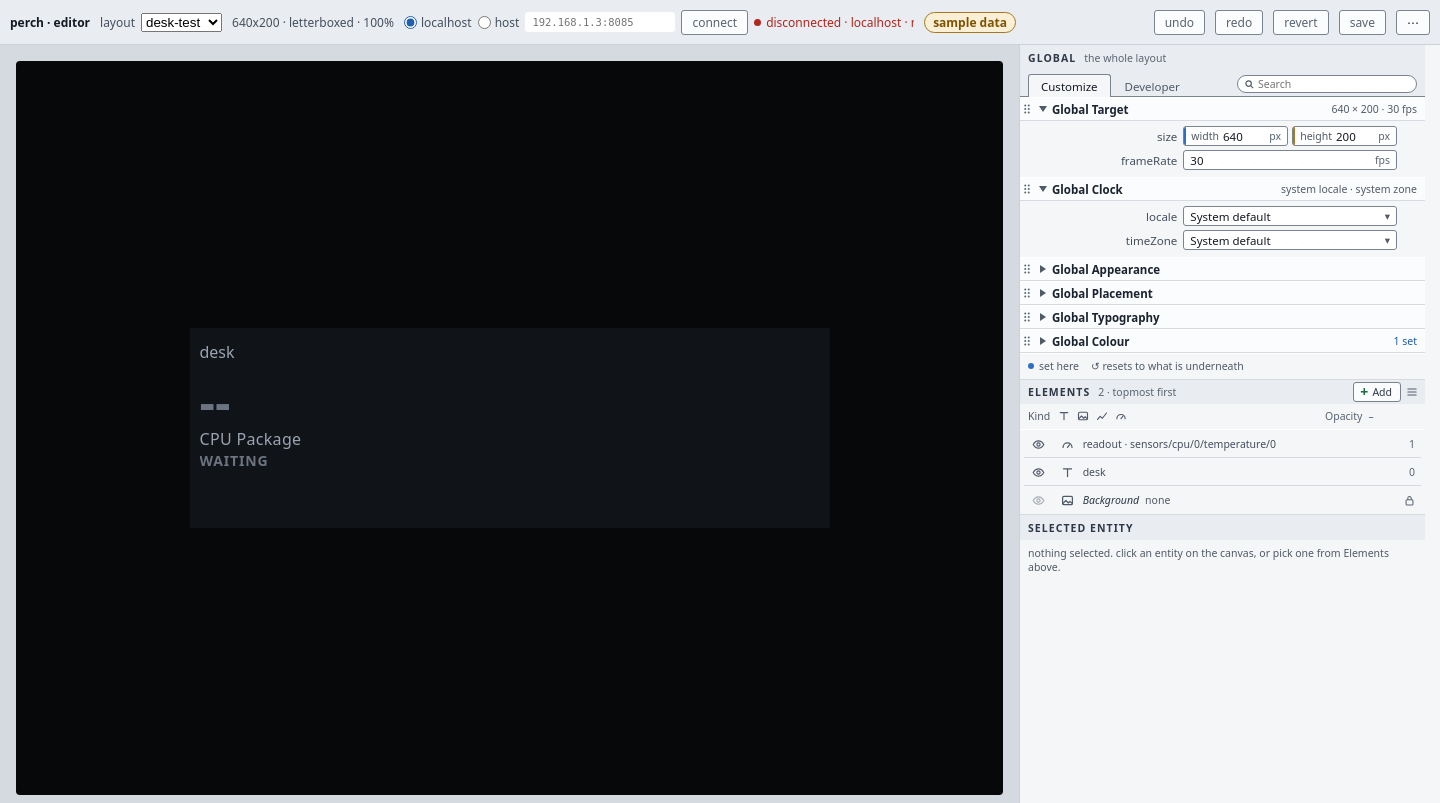
where one step ends › is a field blurred: every keystroke between focus and blur is one step
The image size is (1440, 803).
Click the button "desk 0". click: (1067, 472)
box: x1=1052 y1=458 x2=1421 y2=486
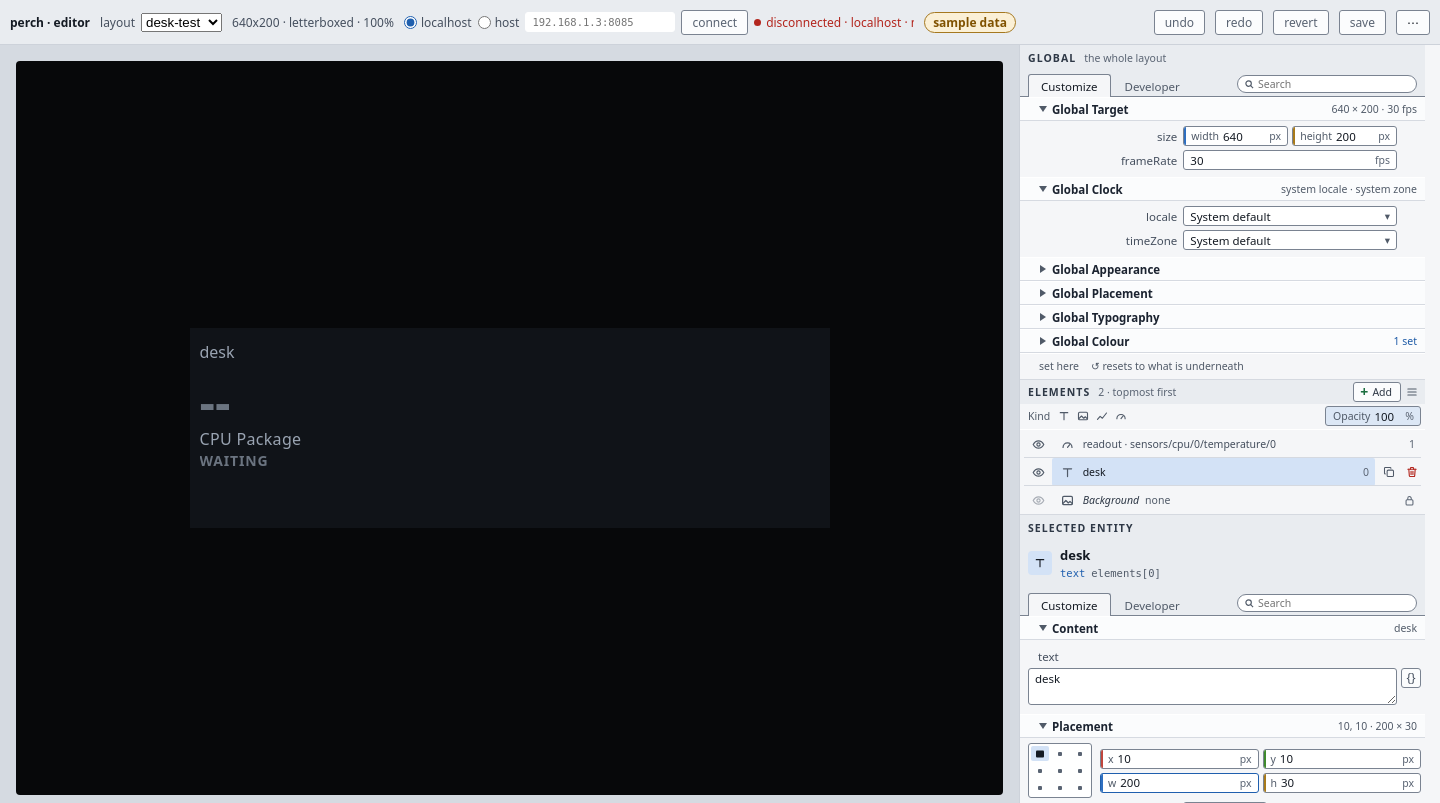
Replace the text in the number field labelled "w" with "1". click: (1179, 783)
box: x1=1118 y1=774 x2=1240 y2=792
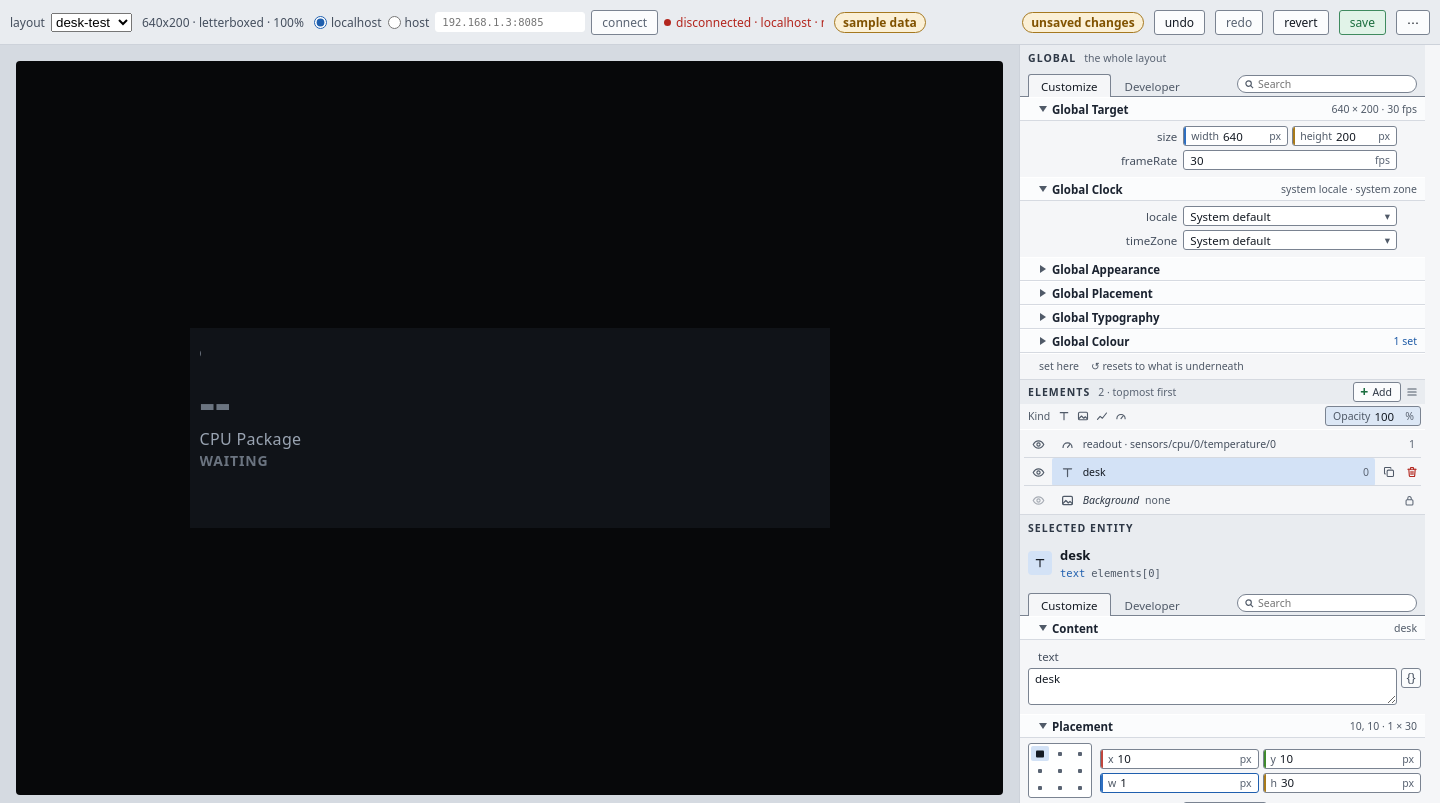
Replace the text in the number field labelled "w" with "15". click: (1179, 783)
box: x1=1118 y1=774 x2=1240 y2=792
Replace the text in the number field labelled "w" with "150". click: (1179, 783)
box: x1=1118 y1=774 x2=1240 y2=792
Replace the text in the number field labelled "w" with "15". click: (1179, 783)
box: x1=1118 y1=774 x2=1240 y2=792
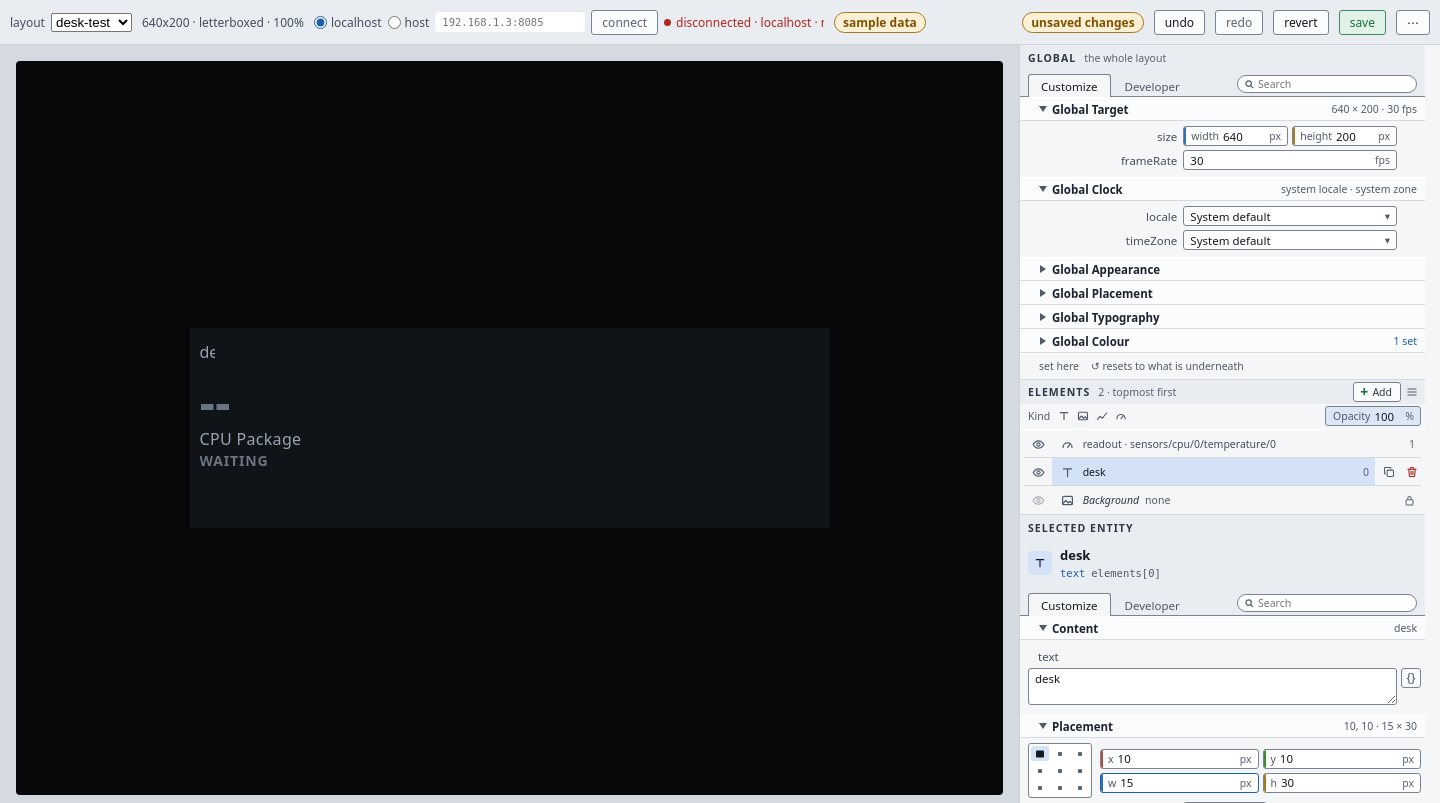
Replace the text in the number field labelled "w" with "1". click: (1179, 783)
box: x1=1118 y1=774 x2=1240 y2=792
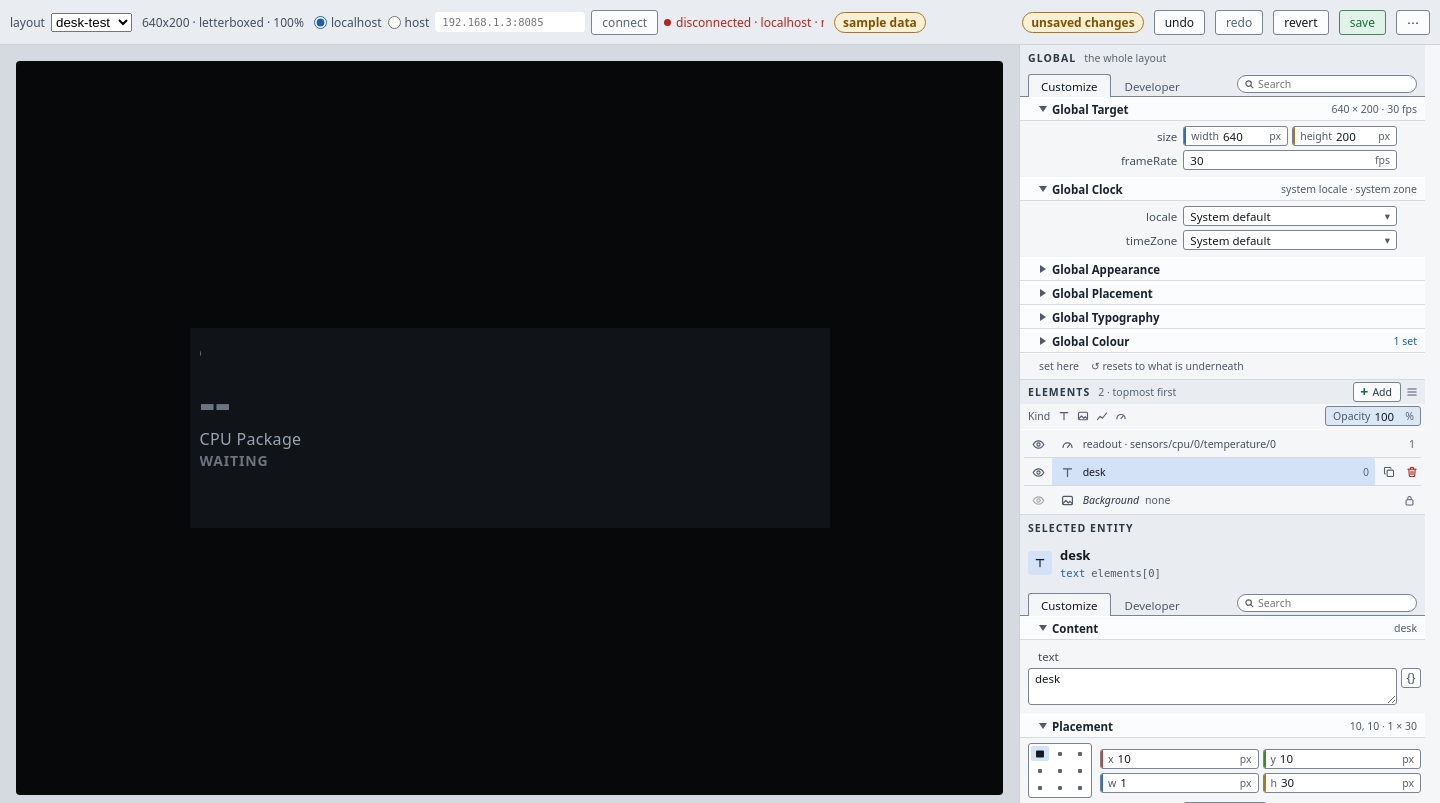
Click the button "undo". click: (1179, 22)
box: x1=1154 y1=10 x2=1205 y2=34
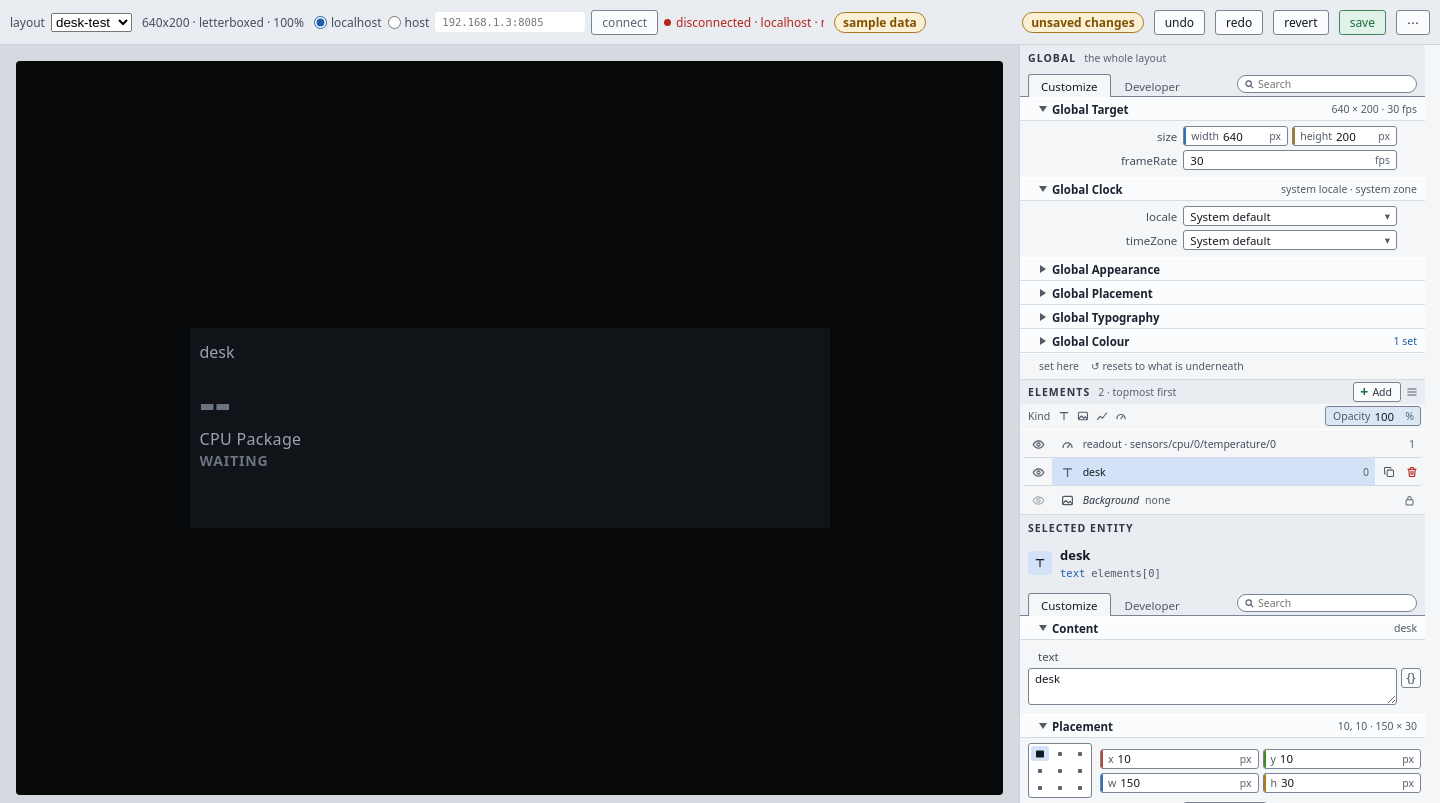
Click the button "undo". click: (1179, 22)
box: x1=1154 y1=10 x2=1205 y2=34
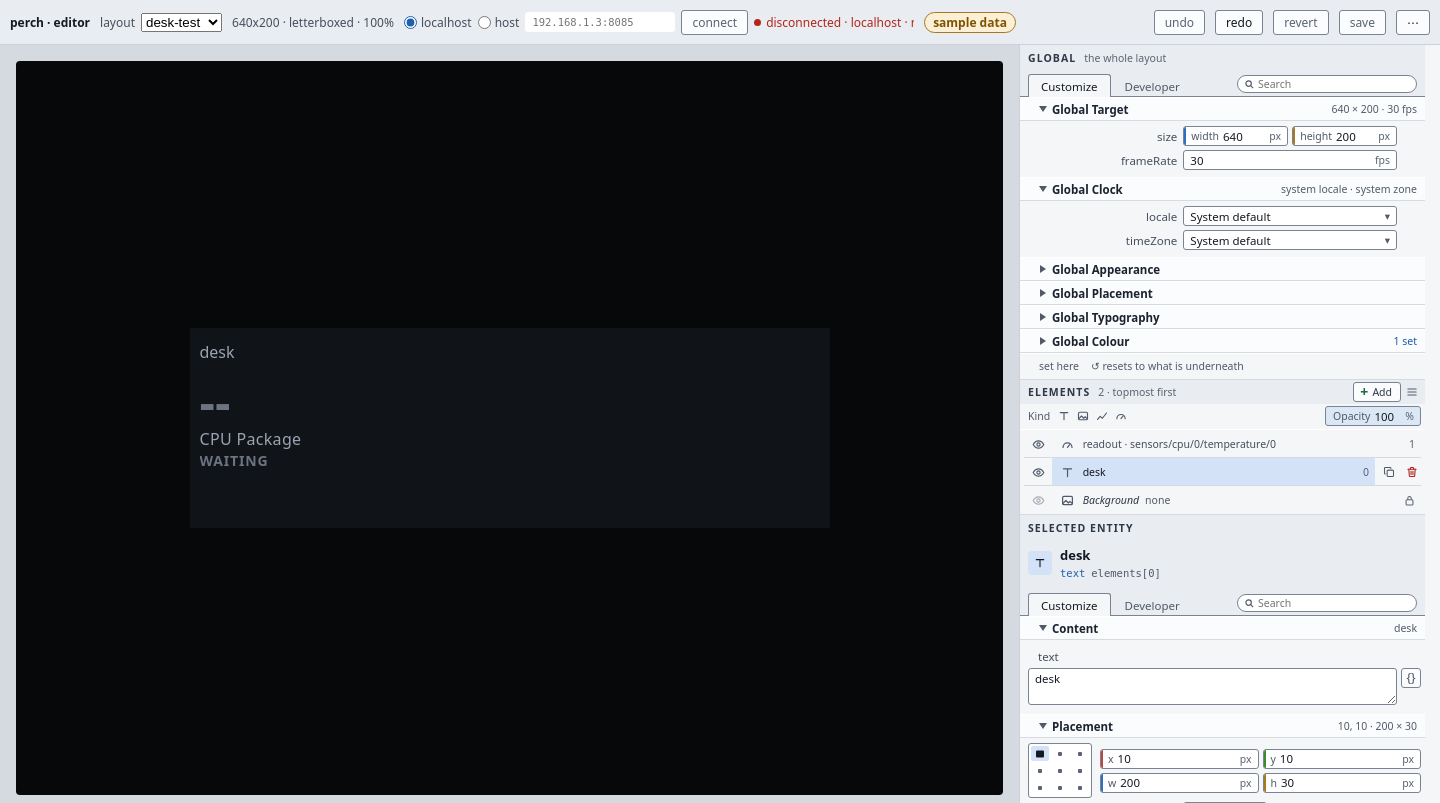
Check: the number field labelled "w" holds "200", box x1=1118 y1=774 x2=1240 y2=792
